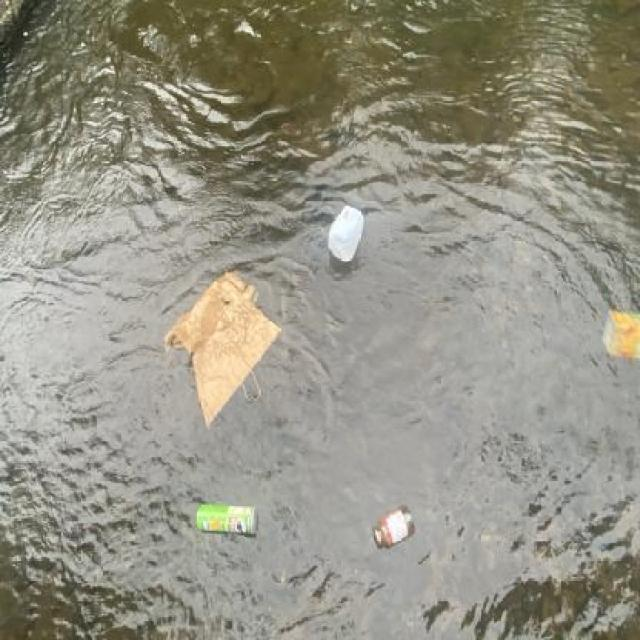Bottle-Glass: (370, 501, 417, 552)
Can-Metal: (191, 502, 263, 542)
Cardboard: (597, 305, 640, 363)
Paper: (162, 261, 288, 433)
Plastic: (319, 200, 370, 266)
